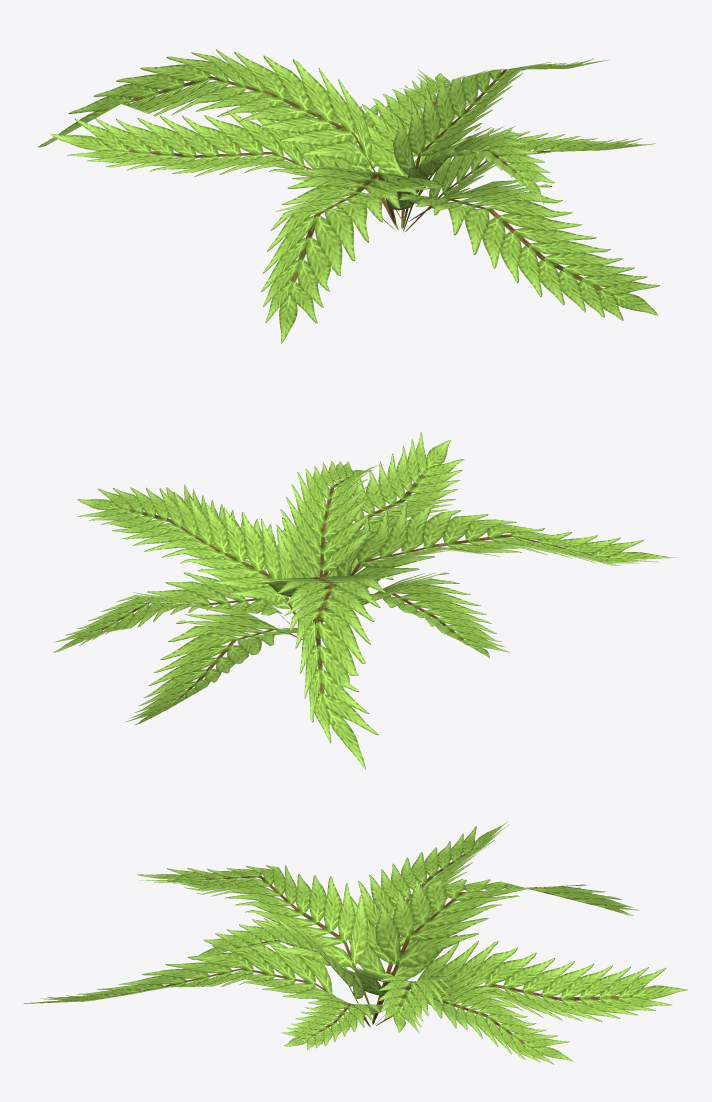
Rendered from BodenPflanzeStern.fbx.
3 renders of one model, top to bottom at view 1: azimuth 30°, elevation 25°; view 2: azimuth 150°, elevation 25°; view 3: azimuth 270°, elevation 25°, orthographic. The views are drawn at different scales.
Visible parts, largest first — view 1: Plane.006; view 2: Plane.006; view 3: Plane.006.
Boxes of the visible parts, box(x1,y1,x2,y2) form: Plane.006: box(38, 49, 659, 343); Plane.006: box(53, 432, 678, 769); Plane.006: box(23, 822, 687, 1064).
Size of the model in its own units: 346 by 90.88 by 427.
